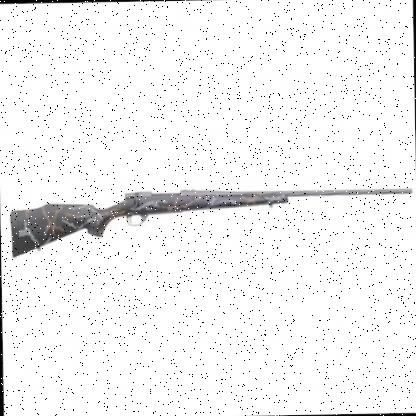rifle: (8, 177, 414, 255)
